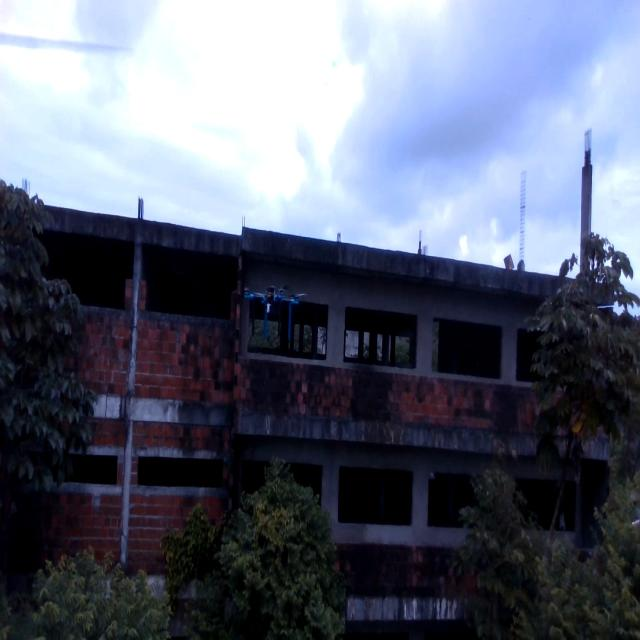-uav-: (236, 274, 307, 367)
